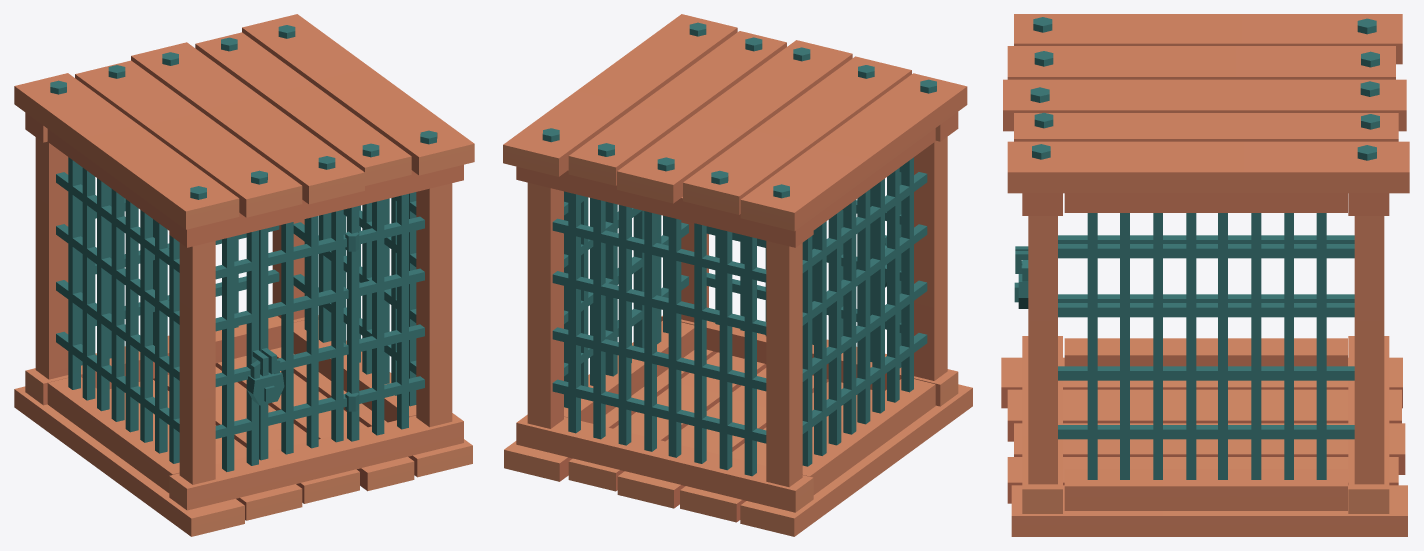
File: torture5.fbx
3 renders of one model, left to right at view 1: azimuth 30°, elevation 25°; view 2: azimuth 150°, elevation 25°; view 3: azimuth 270°, elevation 25°, orthographic. The views are drawn at different scales.
Visible parts, largest first — view 1: torture5, door; view 2: torture5, door; view 3: torture5.
Boxes of the visible parts, x1=… form: torture5: x1=14, y1=14, x2=474, y2=536; door: x1=259, y1=209, x2=359, y2=460; torture5: x1=503, y1=14, x2=972, y2=536; door: x1=812, y1=200, x2=857, y2=344; torture5: x1=1001, y1=14, x2=1409, y2=536.
Size of the model in its own units: 206 by 228 by 224.
